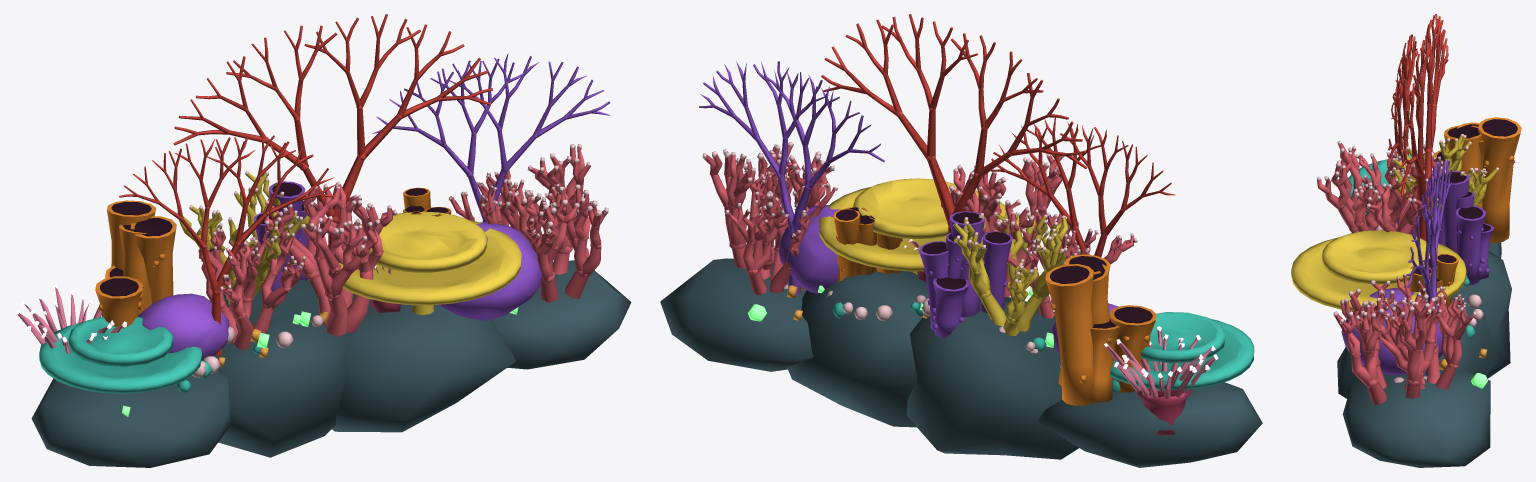
Rendered from reef_large.glb.
3 renders of one model, left to right at view 1: azimuth 30°, elevation 25°; view 2: azimuth 150°, elevation 25°; view 3: azimuth 270°, elevation 25°, orthographic. The views are drawn at different scales.
Visible parts, largest first — view 1: reef_large_mesh; view 2: reef_large_mesh; view 3: reef_large_mesh.
Boxes of the visible parts, <box> form: reef_large_mesh: <box>14,14,631,467</box>; reef_large_mesh: <box>660,14,1262,467</box>; reef_large_mesh: <box>1291,14,1521,467</box>.
Size of the model in its own units: 5.28 by 3.57 by 2.05.
